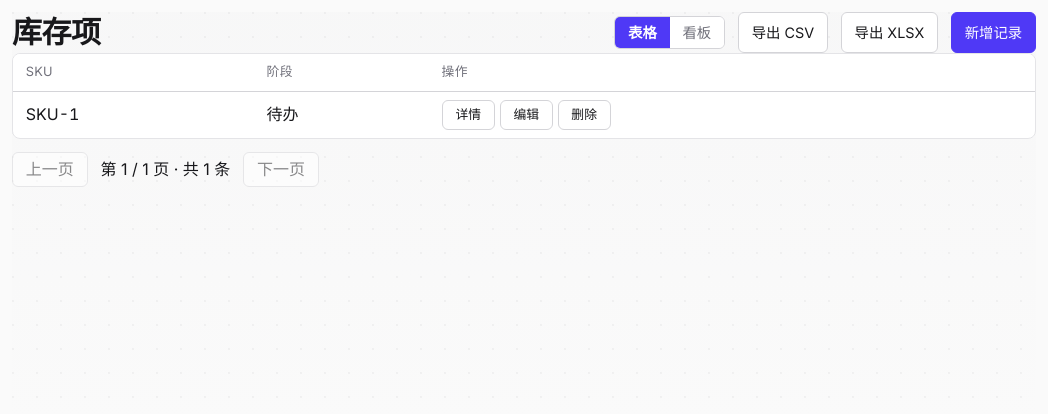
Test: DynamicEntityView：看板拖拽换列编排（P19） › PATCH 失败回滚原列并给出局部错误提示（整页状态不毁）
Click the button with test id "kanban-toggle".
click(697, 32)  # box [670,17,724,48]
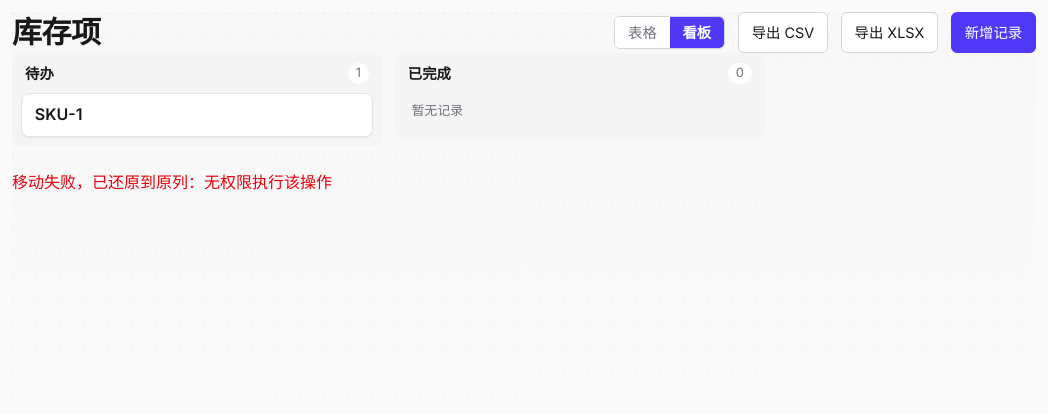
Check: the message with class "form-error" shows "移动失败", box [12,172,332,192]
Check: the element with test id "kanban-view" is shown, box [12,53,765,146]
